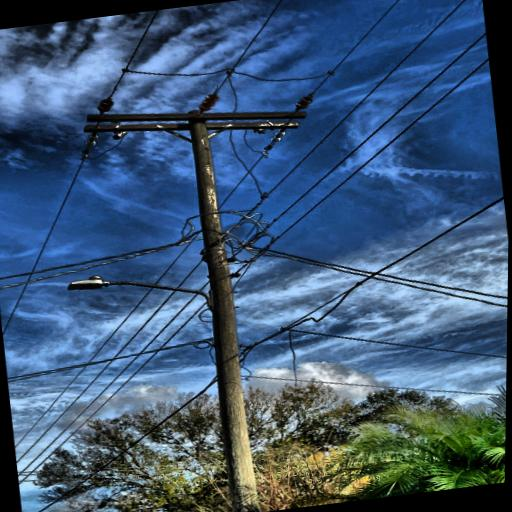pole: (177, 103, 276, 512)
street light: (64, 260, 219, 328)
